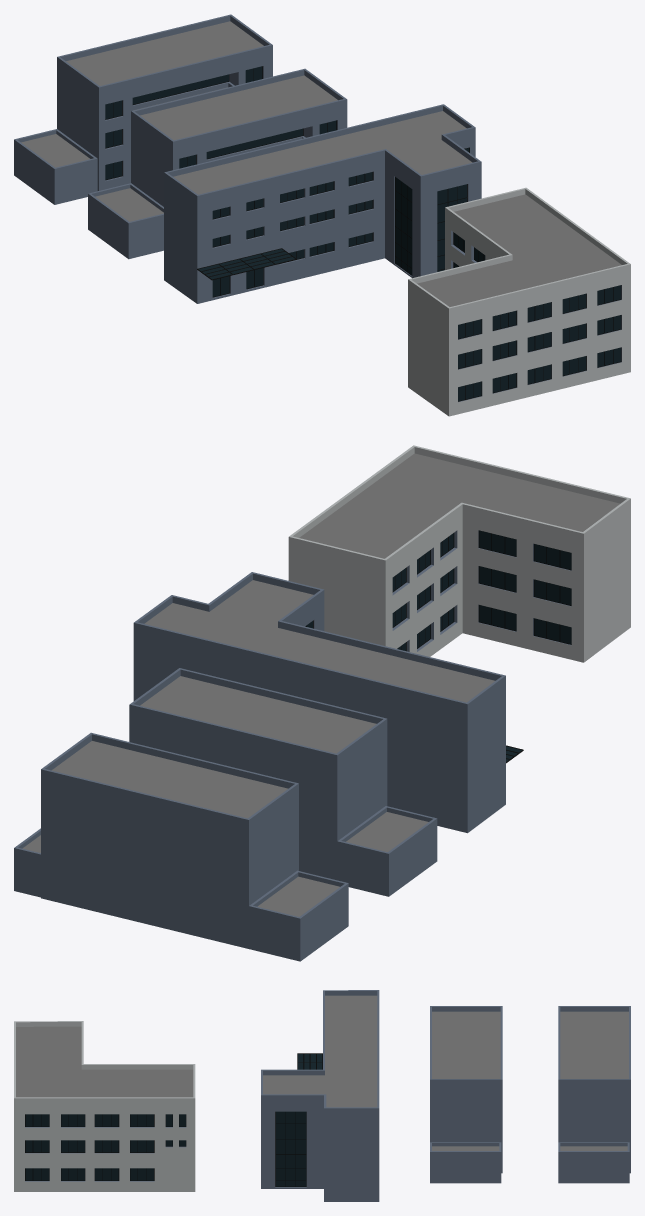
Rendered from factory4.fbx.
3 views of the same model, one above another, from view 1: azimuth 30°, elevation 25°; view 2: azimuth 150°, elevation 25°; view 3: azimuth 270°, elevation 25° (orthographic). The views are drawn at different scales.
Visible parts, largest first — view 1: Obj3d66-1710141-110-582, Obj3d66-1710141-113-944, Obj3d66-1710141-109-519, Obj3d66-1710141-114-730, Obj3d66-1710141-111-393, Obj3d66-1710141-115-298, Obj3d66-1710141-112-568, Obj3d66-1710141-116-814, Obj3d66-1710141-117-209; view 2: Obj3d66-1710141-110-582, Obj3d66-1710141-113-944, Obj3d66-1710141-109-519, Obj3d66-1710141-114-730, Obj3d66-1710141-115-298, Obj3d66-1710141-116-814, Obj3d66-1710141-117-209; view 3: Obj3d66-1710141-110-582, Obj3d66-1710141-109-519, Obj3d66-1710141-113-944, Obj3d66-1710141-114-730, Obj3d66-1710141-115-298, Obj3d66-1710141-111-393, Obj3d66-1710141-116-814, Obj3d66-1710141-112-568, Obj3d66-1710141-117-209.
Boxes of the visible parts, x1,y1,x2,y2 form: Obj3d66-1710141-110-582: (14, 14, 481, 303); Obj3d66-1710141-113-944: (408, 187, 630, 416); Obj3d66-1710141-109-519: (21, 21, 472, 221); Obj3d66-1710141-114-730: (417, 194, 621, 306); Obj3d66-1710141-111-393: (105, 66, 469, 296); Obj3d66-1710141-115-298: (454, 233, 620, 401); Obj3d66-1710141-112-568: (105, 66, 469, 297); Obj3d66-1710141-116-814: (453, 232, 621, 401); Obj3d66-1710141-117-209: (451, 230, 621, 402); Obj3d66-1710141-110-582: (14, 572, 505, 961); Obj3d66-1710141-113-944: (288, 445, 630, 662); Obj3d66-1710141-109-519: (22, 580, 494, 916); Obj3d66-1710141-114-730: (299, 453, 619, 558); Obj3d66-1710141-115-298: (392, 530, 571, 650); Obj3d66-1710141-116-814: (392, 530, 571, 651); Obj3d66-1710141-117-209: (392, 530, 571, 651); Obj3d66-1710141-110-582: (261, 990, 630, 1201); Obj3d66-1710141-109-519: (263, 995, 628, 1150); Obj3d66-1710141-113-944: (14, 1021, 195, 1191); Obj3d66-1710141-114-730: (16, 1026, 193, 1097); Obj3d66-1710141-115-298: (25, 1114, 185, 1180); Obj3d66-1710141-111-393: (276, 1054, 322, 1186); Obj3d66-1710141-116-814: (25, 1114, 186, 1180); Obj3d66-1710141-112-568: (275, 1053, 322, 1186); Obj3d66-1710141-117-209: (25, 1127, 186, 1181).
Size of the model in its own units: 33100 by 12000 by 71664.
